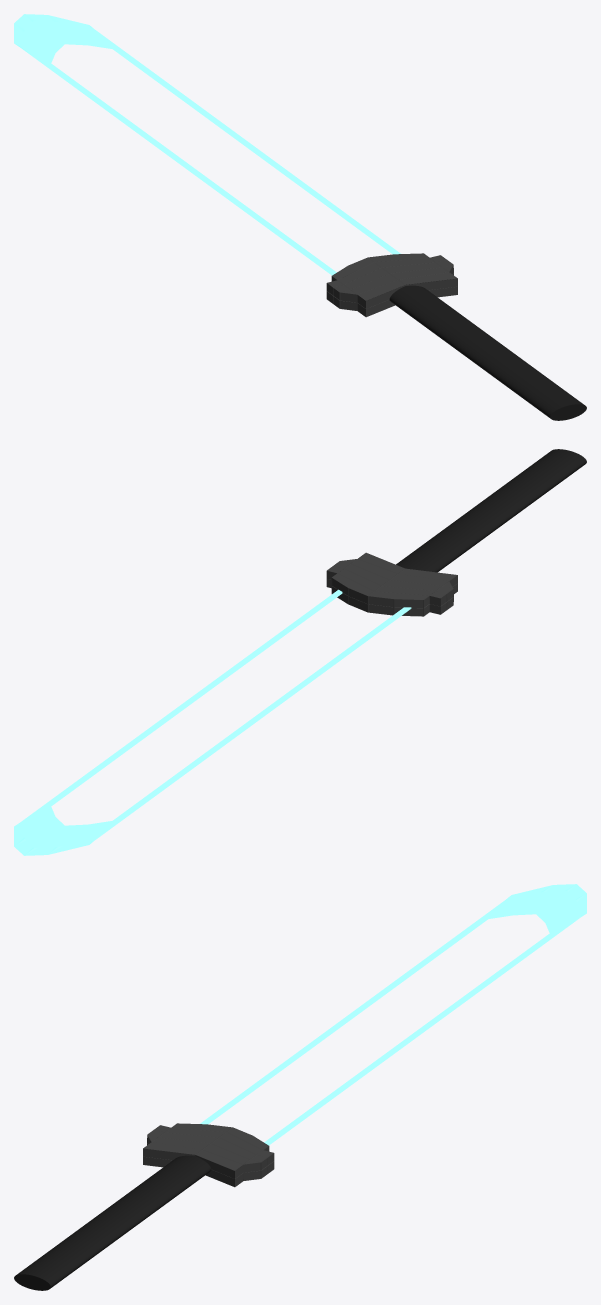
Rendered from longsword_holoframe.fbx.
3 views of the same model, one above another, from view 1: azimuth 30°, elevation 25°; view 2: azimuth 150°, elevation 25°; view 3: azimuth 330°, elevation 25° (orthographic).
Visible parts, largest first — view 1: Cube, Cylinder, Cube.001; view 2: Cube, Cylinder, Cube.001; view 3: Cube, Cylinder, Cube.001.
Part boxes in pixels (bbox=[...]): Cube: bbox=[14, 14, 400, 275]; Cylinder: bbox=[389, 285, 586, 420]; Cube.001: bbox=[326, 253, 457, 317]; Cube: bbox=[14, 589, 411, 855]; Cylinder: bbox=[396, 449, 586, 572]; Cube.001: bbox=[326, 552, 457, 616]; Cube: bbox=[200, 884, 586, 1145]; Cylinder: bbox=[14, 1155, 211, 1290]; Cube.001: bbox=[143, 1123, 274, 1187].
Bounding box in the file's own units: 42.61 × 5.87 × 351.
